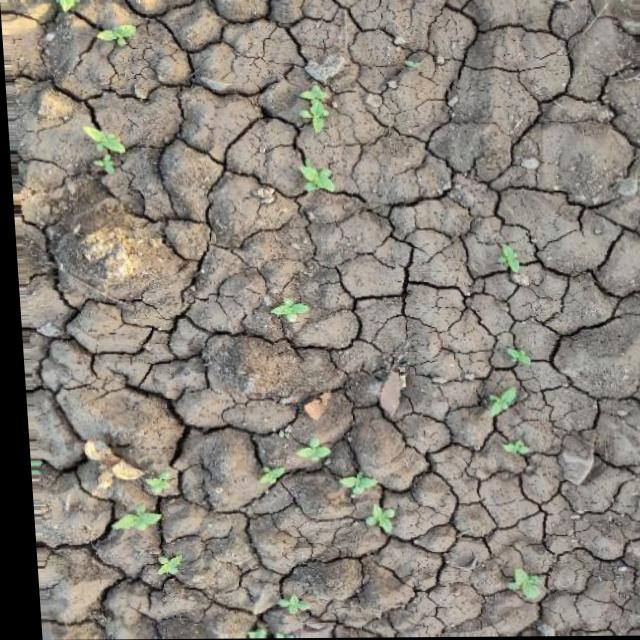crop: (79, 120, 127, 180), (469, 385, 524, 426), (294, 81, 332, 134), (291, 161, 338, 201), (499, 568, 542, 608), (286, 432, 332, 468), (107, 508, 162, 537), (357, 497, 392, 539), (490, 237, 520, 279), (265, 298, 307, 325), (267, 598, 305, 623), (146, 556, 175, 582)
